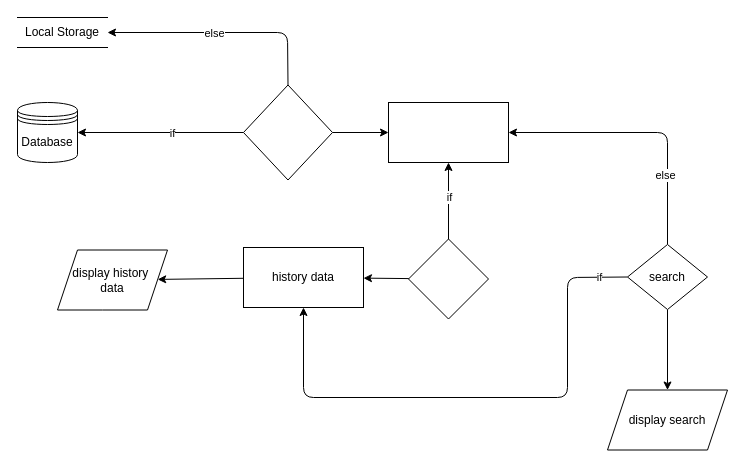
This 745x468 diagram has some shape labels left out. The shapes that lost their labels are listed below. From the top down, each one's centre as x and y in pixels, then its label:
[287,132]: user auth & online
[448,132]: get search history data and song data
[448,278]: history
